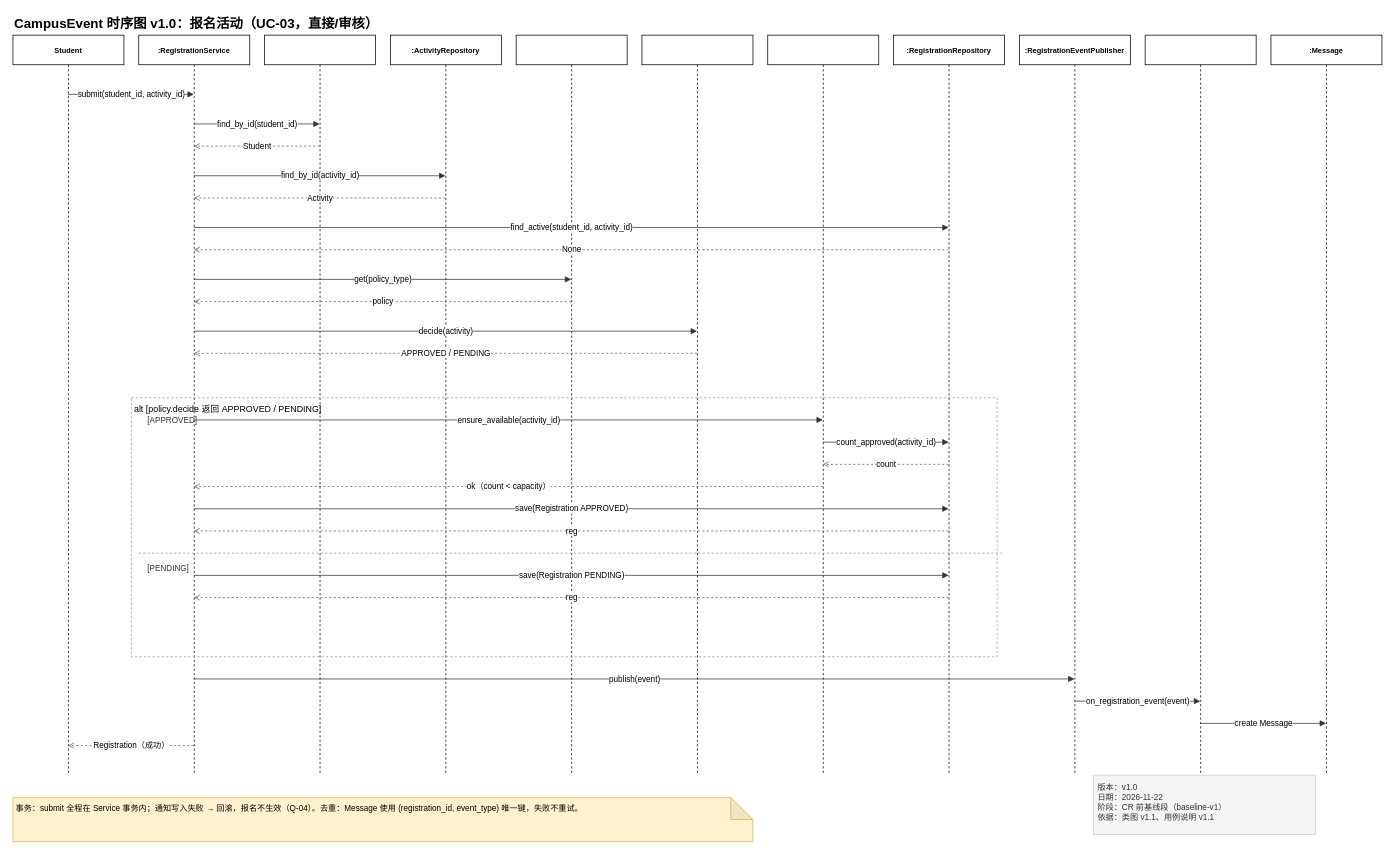
Some shapes in this 1395 by 855 pixel diagram are drawn without their labels. Each missing label, with the box of its shape:
:CapacityChecker: (767, 34, 879, 775)
:MessageObserver: (1144, 34, 1256, 775)
:PolicyRegistry: (515, 34, 627, 775)
:RegistrationPolicy: (641, 34, 753, 775)
:StudentRepository: (264, 34, 376, 775)
